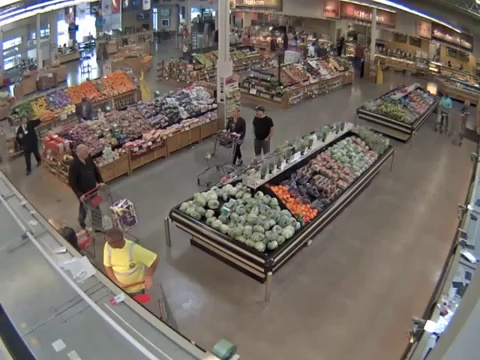face: (106, 235, 115, 248), (80, 149, 88, 158), (21, 116, 28, 124), (256, 108, 262, 117), (232, 110, 239, 117)
